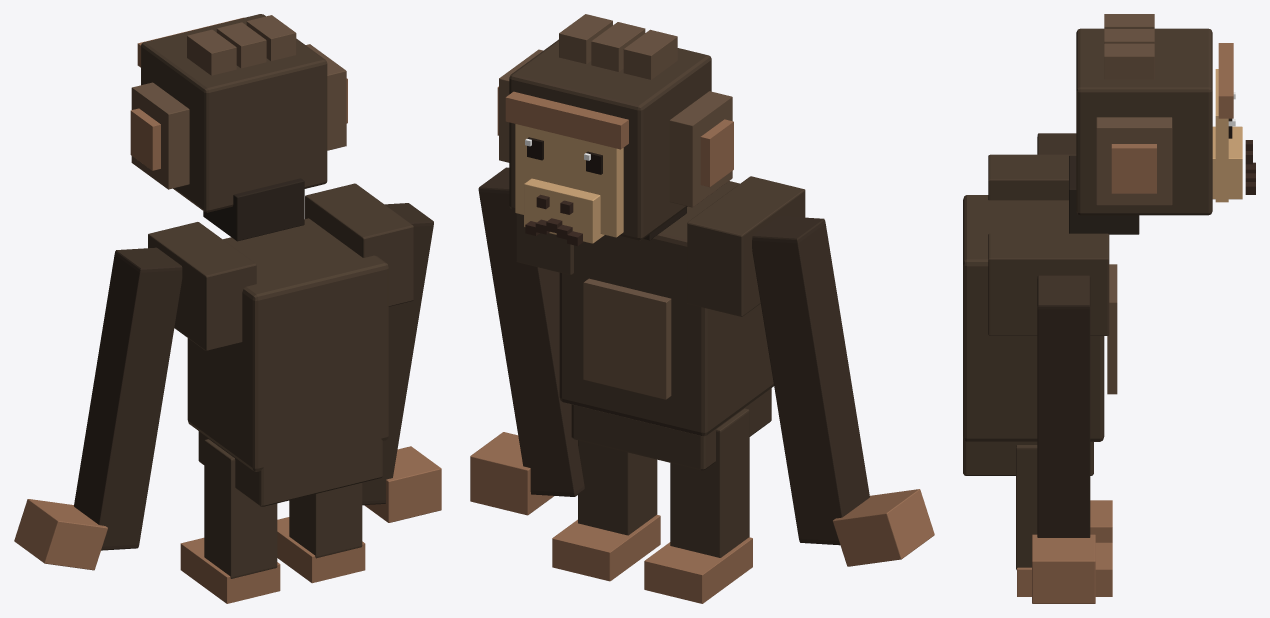
Rendered from chimpanzee.glb.
3 renders of one model, left to right at view 1: azimuth 30°, elevation 25°; view 2: azimuth 150°, elevation 25°; view 3: azimuth 270°, elevation 25°, orthographic. The views are drawn at different scales.
Visible parts, largest first — view 1: body, head, arm.R, leg.FR, arm.L, leg.FL, ear.R, ear.L; view 2: body, head, arm.R, arm.L, leg.FR, leg.FL, ear.R, ear.L; view 3: body, head, arm.L, ear.L, leg.FL, leg.FR, arm.R.
Part boxes in pixels (x1=…): body: x1=148, y1=183, x2=413, y2=506; head: x1=137, y1=14, x2=327, y2=241; arm.R: x1=14, y1=247, x2=182, y2=570; leg.FR: x1=180, y1=439, x2=280, y2=603; arm.L: x1=362, y1=203, x2=441, y2=522; leg.FL: x1=277, y1=483, x2=365, y2=583; ear.R: x1=130, y1=82, x2=189, y2=189; ear.L: x1=306, y1=44, x2=347, y2=150; body: x1=516, y1=176, x2=805, y2=470; head: x1=505, y1=14, x2=711, y2=245; arm.R: x1=752, y1=216, x2=934, y2=566; arm.L: x1=470, y1=167, x2=584, y2=515; leg.FR: x1=644, y1=408, x2=752, y2=603; leg.FL: x1=552, y1=440, x2=660, y2=581; ear.R: x1=669, y1=91, x2=733, y2=207; ear.L: x1=497, y1=49, x2=542, y2=162; body: x1=963, y1=154, x2=1117, y2=475; head: x1=1069, y1=14, x2=1255, y2=234; arm.L: x1=1032, y1=275, x2=1095, y2=603; ear.L: x1=1096, y1=117, x2=1172, y2=205; leg.FL: x1=1016, y1=445, x2=1112, y2=596; leg.FR: x1=1090, y1=500, x2=1112, y2=542; arm.R: x1=1037, y1=133, x2=1076, y2=154.
Size of the model in its own units: 0.8104 by 1 by 0.5033.
